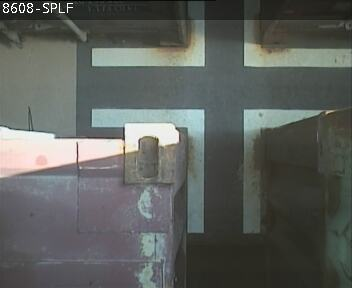groundmarker_1: (91, 108, 349, 233), (92, 1, 352, 66)
